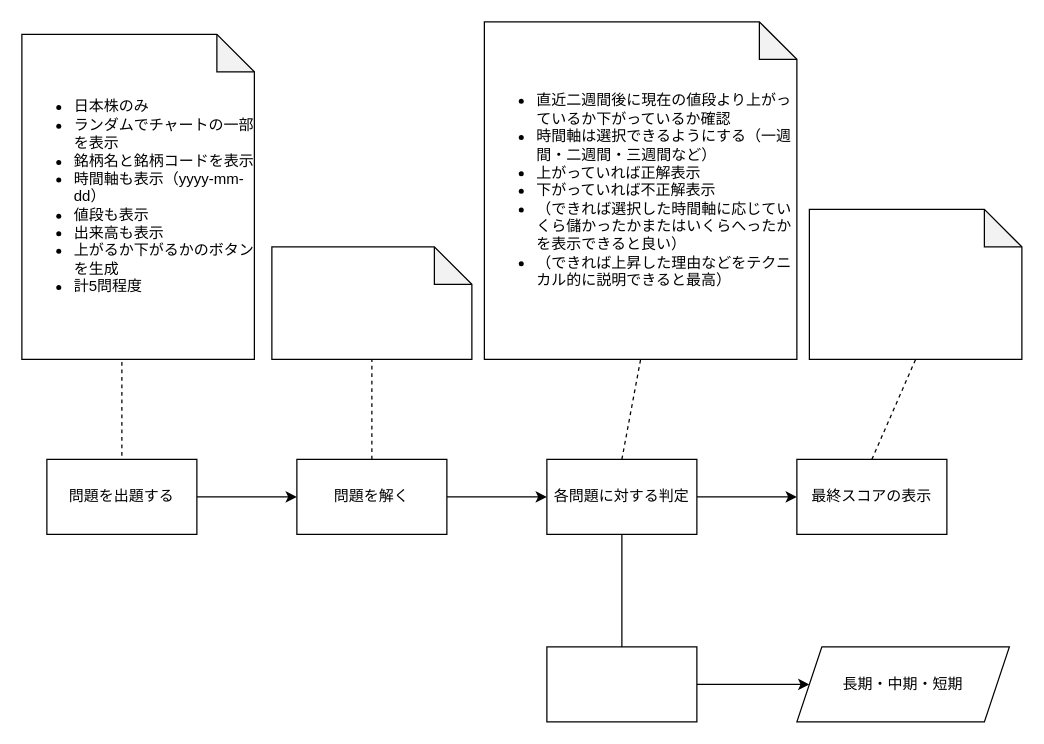
Some shapes in this 1044 by 744 pixel diagram are drawn without their labels. Here are the shapes that lost their labels. From the top down, the centre of each, then its label:
point 371,302: 回答をクリック
point 915,283: 5問中何問正解したかと正答率を％で表示 （収支を表示できるとよさそう）
point 621,684: 時間軸
